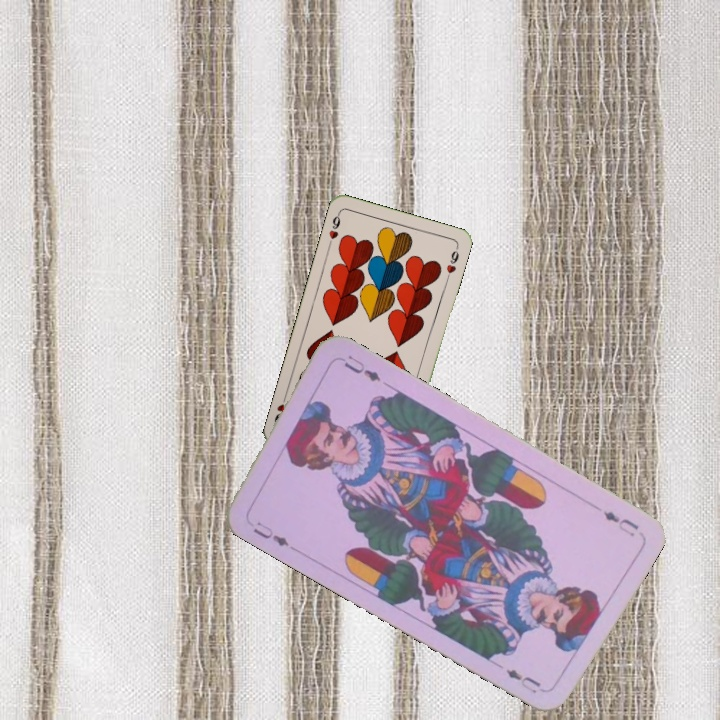EU: (598, 506, 642, 540), (249, 517, 292, 549)
H9: (325, 208, 343, 248)
